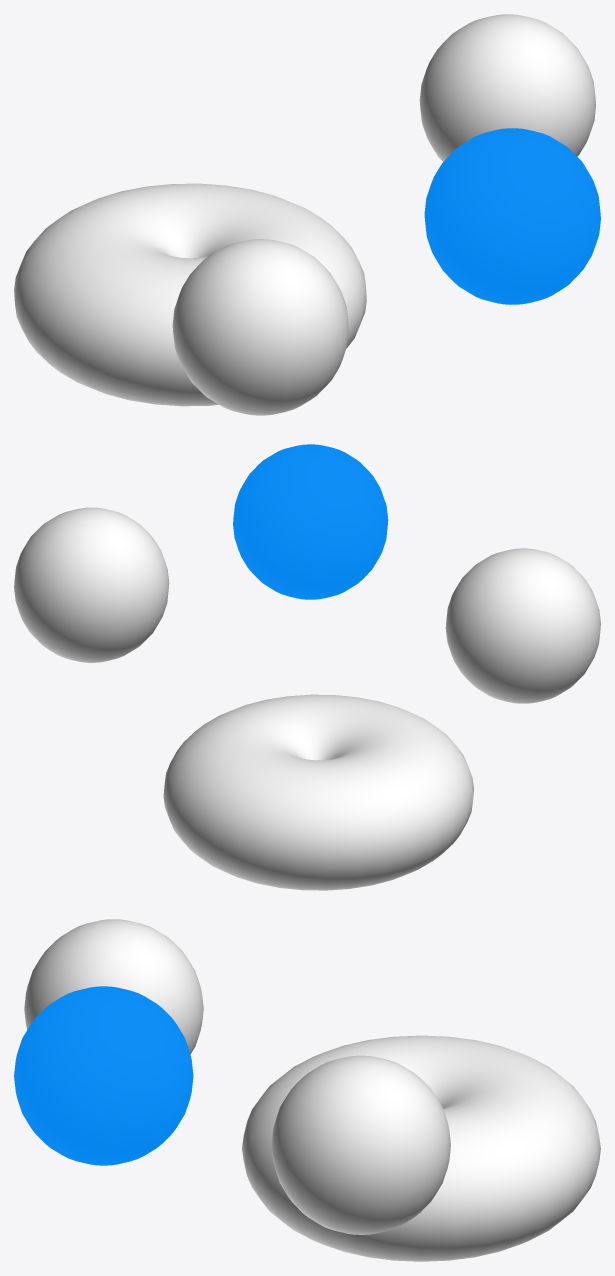
File: glbtest02_01.glb
3 renders of one model, top to bottom at view 1: azimuth 30°, elevation 25°; view 2: azimuth 150°, elevation 25°; view 3: azimuth 270°, elevation 25°, orthographic. The views are drawn at different scales.
Parts seen in each view (by area): view 1: Torus, Sphere.002, Sphere.001, Sphere; view 2: Torus, Sphere.002, Sphere, Sphere.001; view 3: Torus, Sphere, Sphere.001, Sphere.002.
Boxes of the visible parts, left/top/right/bottom form: Torus: left=14, top=183, right=366, bottom=406; Sphere.002: left=172, top=239, right=348, bottom=415; Sphere.001: left=424, top=128, right=600, bottom=304; Sphere: left=419, top=14, right=595, bottom=161; Torus: left=163, top=694, right=473, bottom=890; Sphere.002: left=445, top=548, right=600, bottom=703; Sphere: left=14, top=507, right=169, bottom=662; Sphere.001: left=233, top=444, right=388, bottom=599; Torus: left=242, top=1035, right=600, bottom=1261; Sphere: left=271, top=1055, right=450, bottom=1234; Sphere.001: left=14, top=986, right=193, bottom=1165; Sphere.002: left=24, top=919, right=203, bottom=1054.
Bounding box in the file's own units: 6.82 × 3.7 × 6.54.
